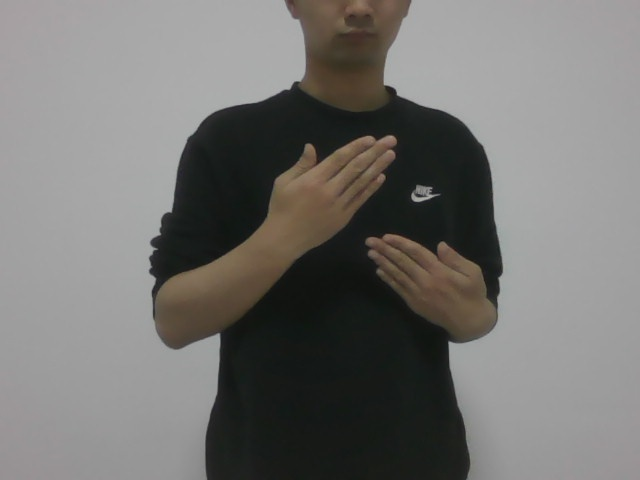tea: (225, 121, 496, 338)
